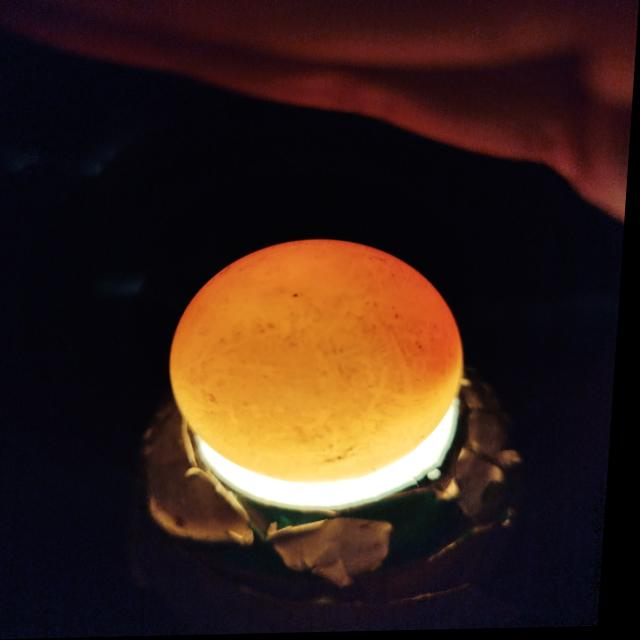Gema Quebrada: (350, 245, 466, 396)
